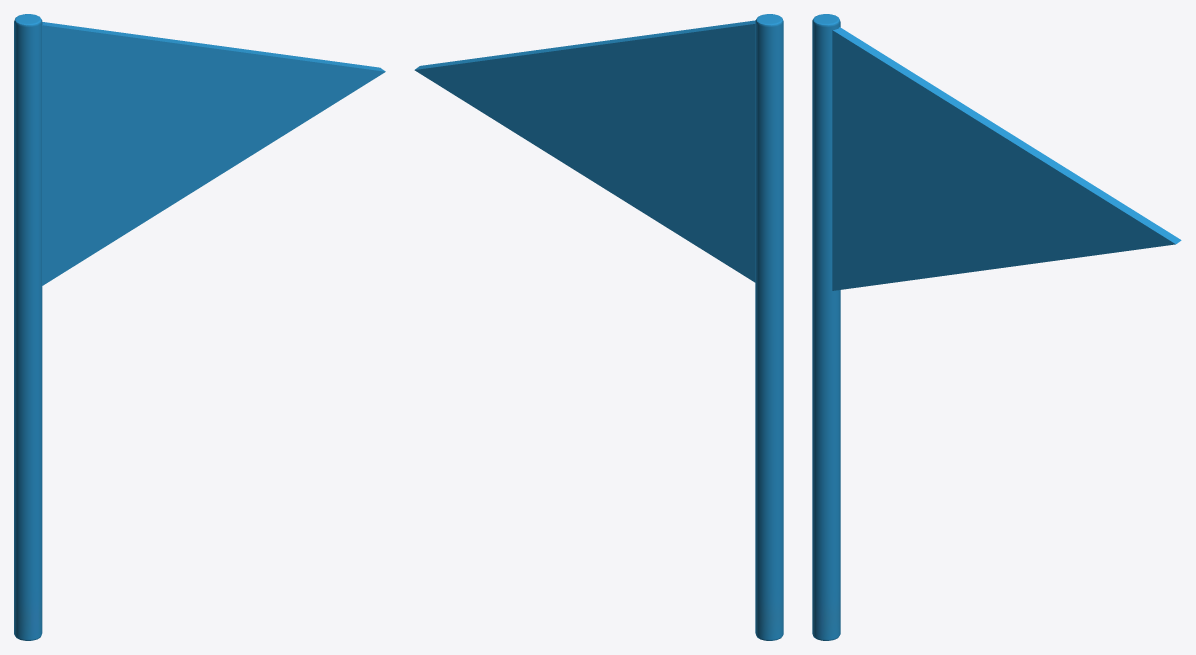
File: blue_flag.fbx
3 views of the same model, side by side, from view 1: azimuth 30°, elevation 25°; view 2: azimuth 150°, elevation 25°; view 3: azimuth 330°, elevation 25° (orthographic).
Visible parts, largest first — view 1: pCylinder5; view 2: pCylinder5; view 3: pCylinder5.
Part boxes in pixels (x1,y1,x2,y2): pCylinder5: (14,14,385,640); pCylinder5: (414,14,783,640); pCylinder5: (812,14,1181,640).
Bounding box in the file's own units: 29.74 × 47.92 × 1.95.
